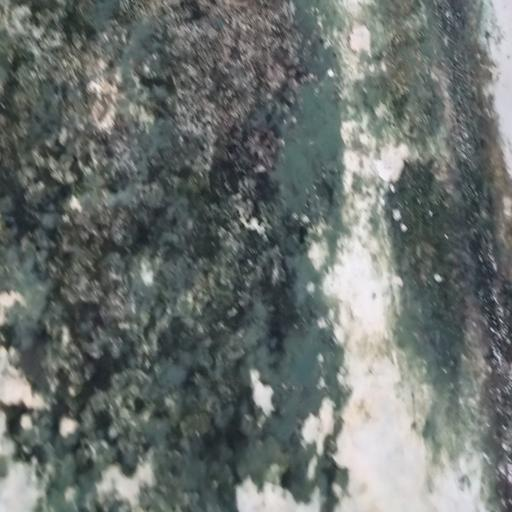algae: (4, 2, 491, 474)
